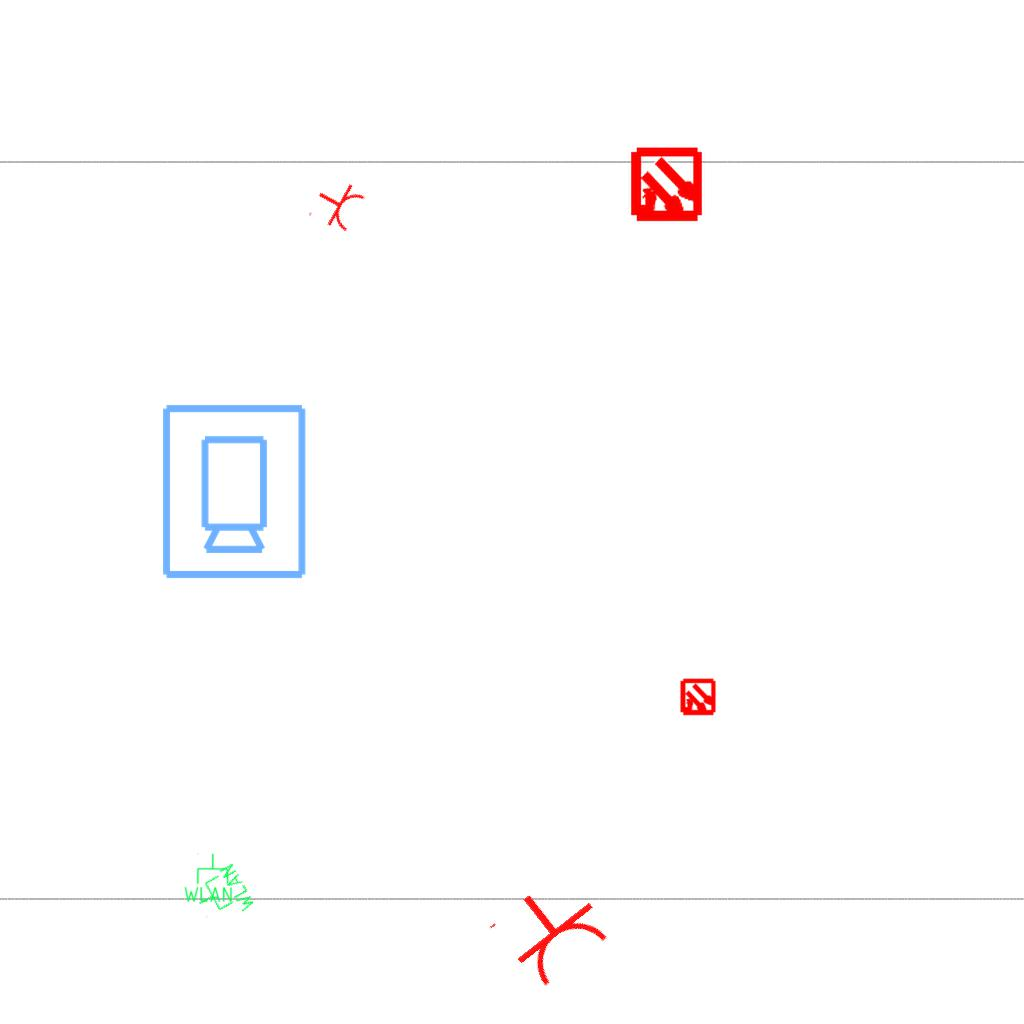KFO_Kamera_mit_Festobjektiv: (156, 400, 310, 582)
OT_Multisensormelder_(Kombination_RMO_WMD): (610, 130, 723, 243), (670, 670, 726, 726)
Schukosteckdose_einfach: (484, 865, 617, 997), (306, 172, 369, 238)
WLAN: (187, 860, 259, 932), (182, 852, 234, 904)
